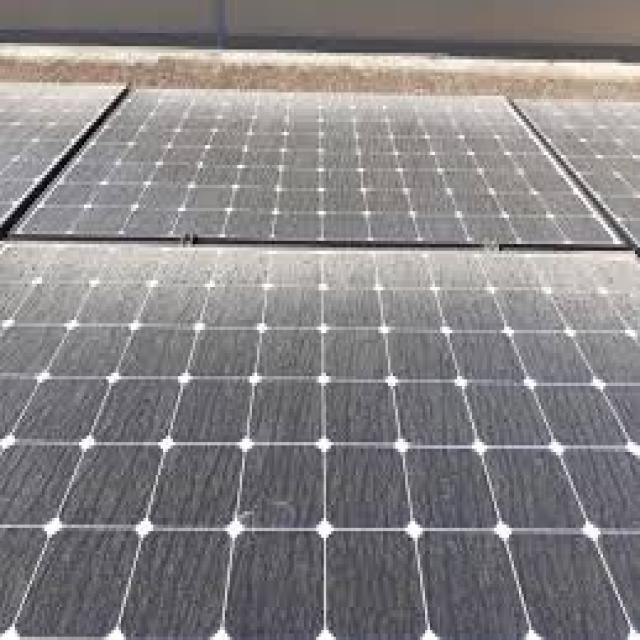Dusty: (0, 92, 640, 637)
